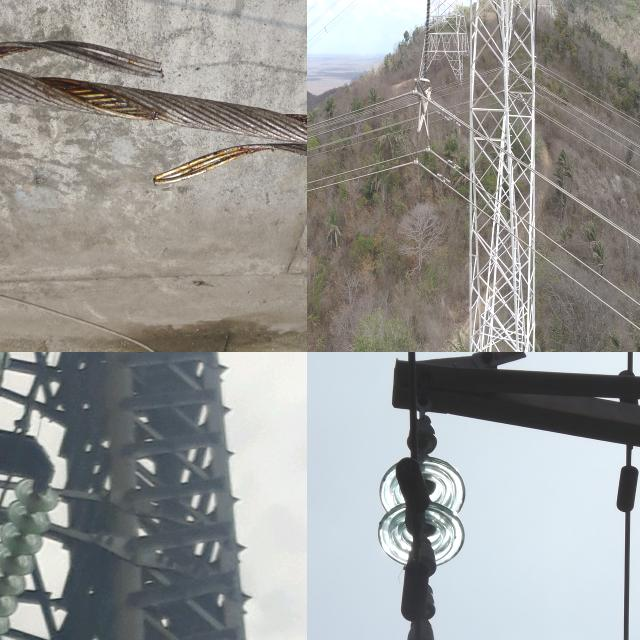杆塔: (0, 352, 269, 640), (435, 0, 540, 352)
正常电缆: (547, 253, 640, 336), (544, 171, 640, 249), (544, 107, 640, 181), (555, 236, 640, 311), (307, 144, 427, 185), (307, 87, 405, 132), (307, 158, 416, 194)
正常绝缘子: (365, 419, 465, 640), (0, 474, 77, 640), (419, 0, 433, 85), (532, 0, 539, 60)
电缆破损: (0, 0, 307, 86)
绝缘子破损: (399, 594, 437, 631), (402, 552, 437, 584)
